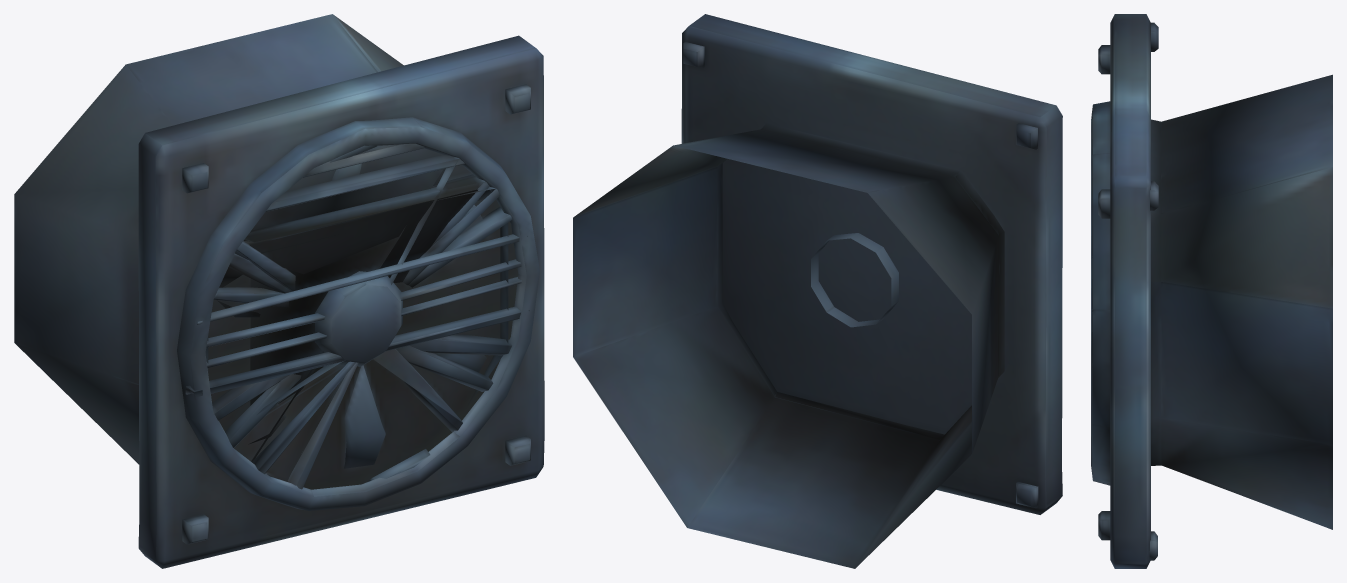
Rendered from wall_fan.glb.
3 renders of one model, left to right at view 1: azimuth 30°, elevation 25°; view 2: azimuth 150°, elevation 25°; view 3: azimuth 270°, elevation 25°, orthographic. The views are drawn at different scales.
Parts seen in each view (by area): view 1: tripo_node_48fdb3c6-2f93-47fe-ae53-f41a71981bd3; view 2: tripo_node_48fdb3c6-2f93-47fe-ae53-f41a71981bd3; view 3: tripo_node_48fdb3c6-2f93-47fe-ae53-f41a71981bd3.
Part boxes in pixels (x1,y1,x2,y2): tripo_node_48fdb3c6-2f93-47fe-ae53-f41a71981bd3: [14, 14, 544, 568]; tripo_node_48fdb3c6-2f93-47fe-ae53-f41a71981bd3: [573, 14, 1062, 568]; tripo_node_48fdb3c6-2f93-47fe-ae53-f41a71981bd3: [1091, 14, 1332, 568].
Bounding box in the file's own units: 0.998 × 0.9785 × 0.5371.
Materials: 1 (1 with a texture image).
